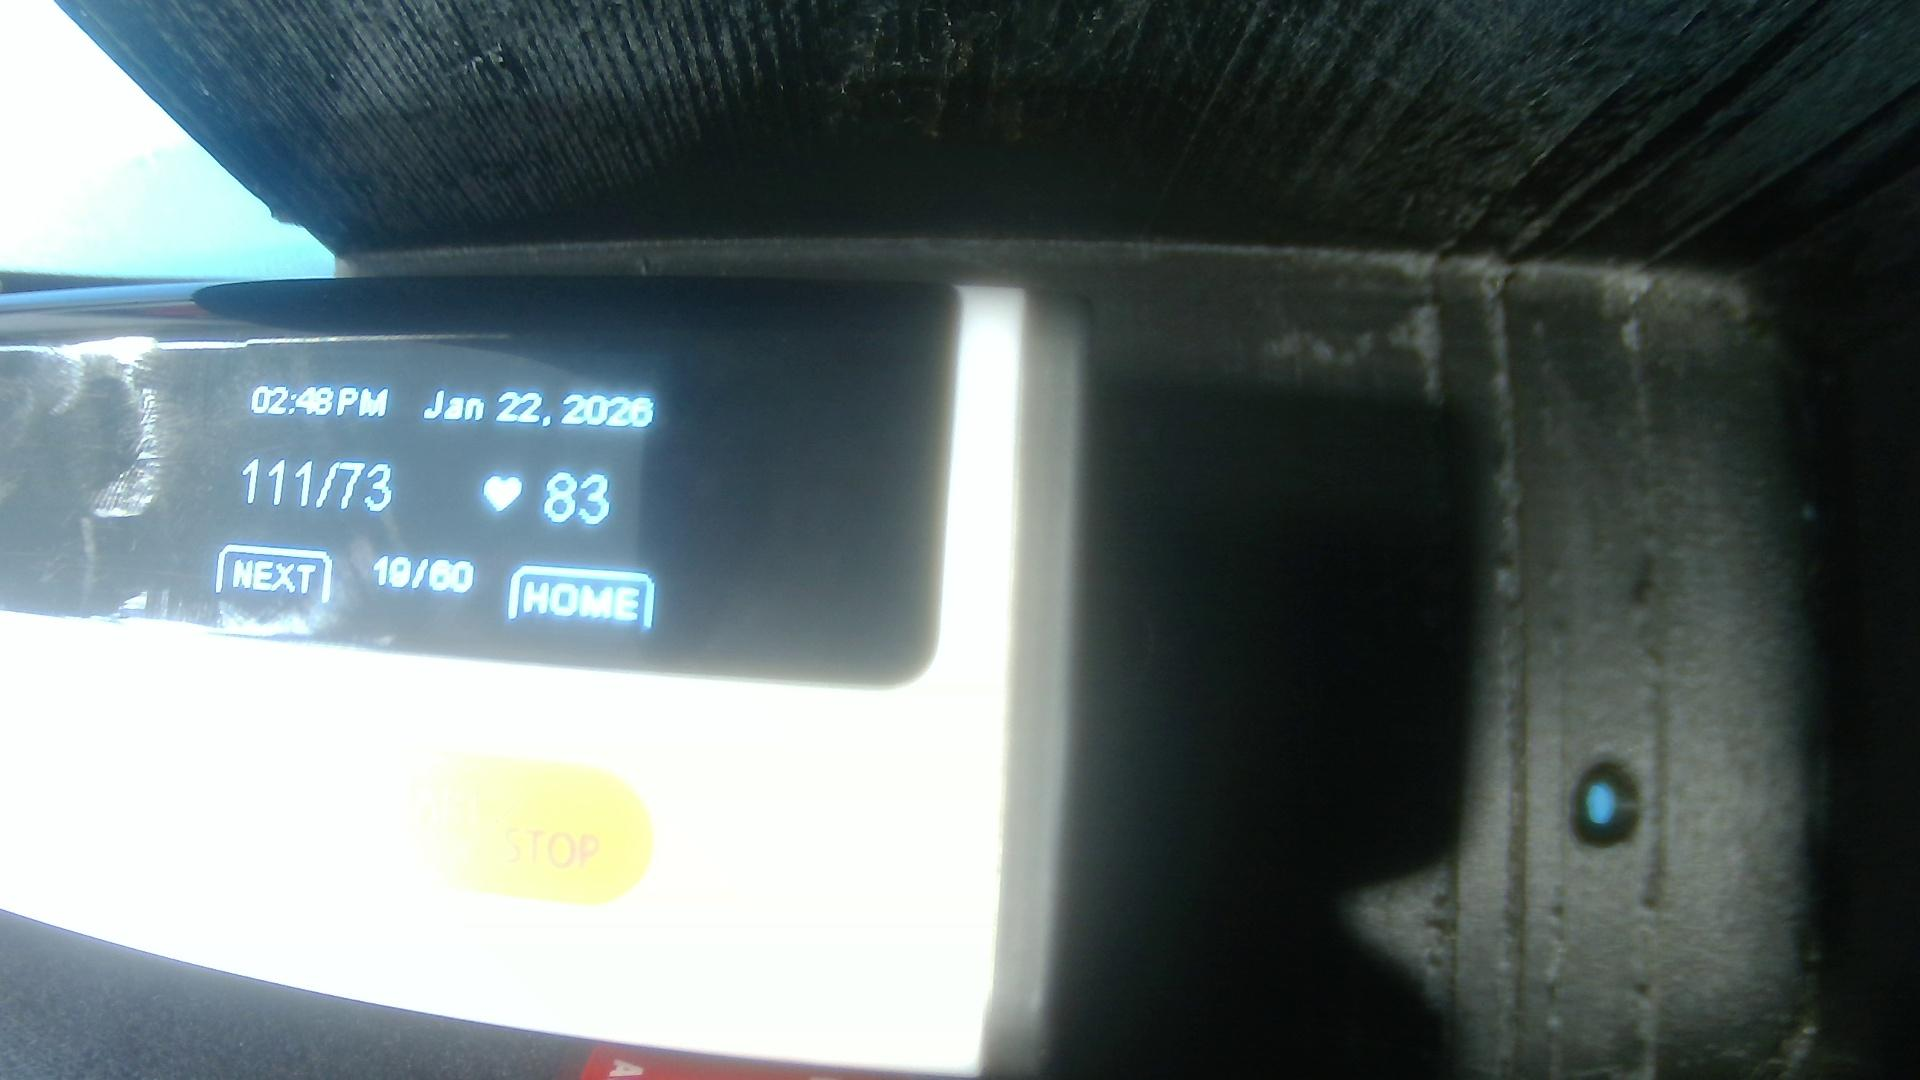DISPLAY: (9, 293, 947, 686)
